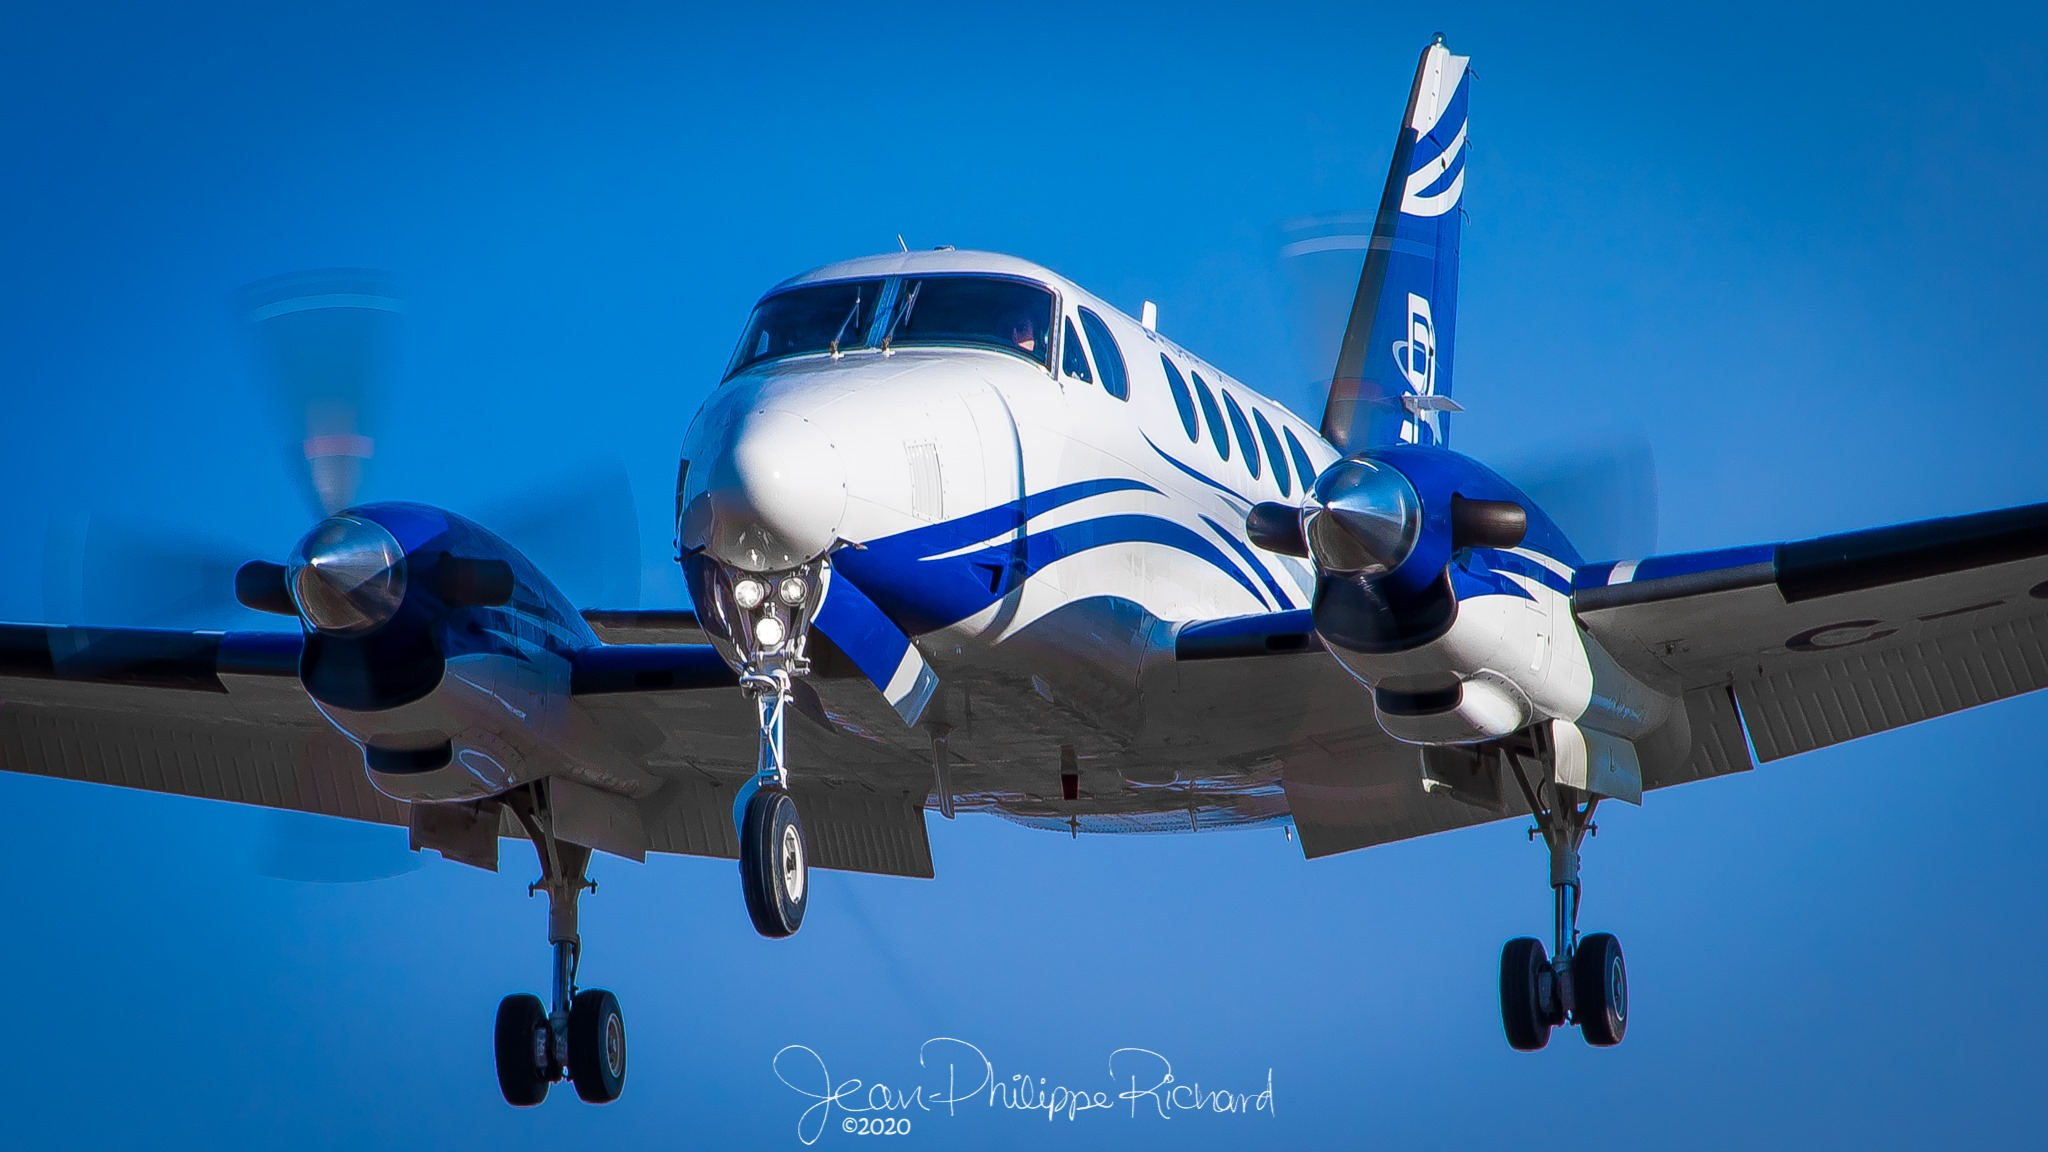Aeronef_commercial: (1, 21, 2048, 1127)
